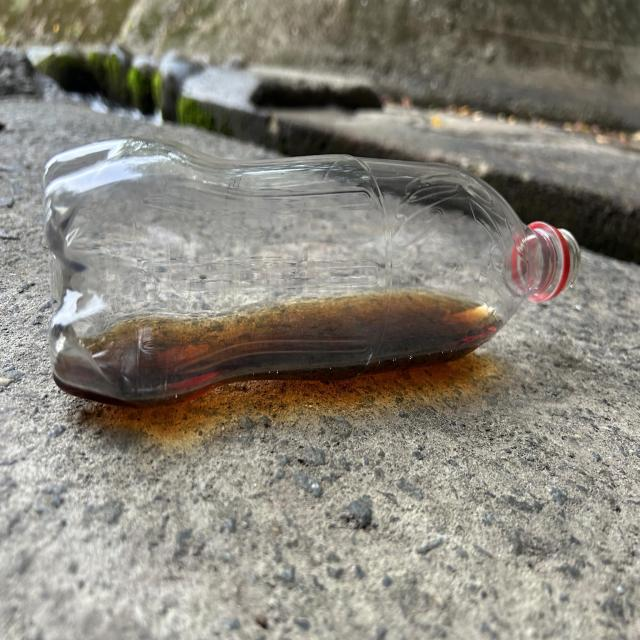low: (44, 139, 580, 405)
